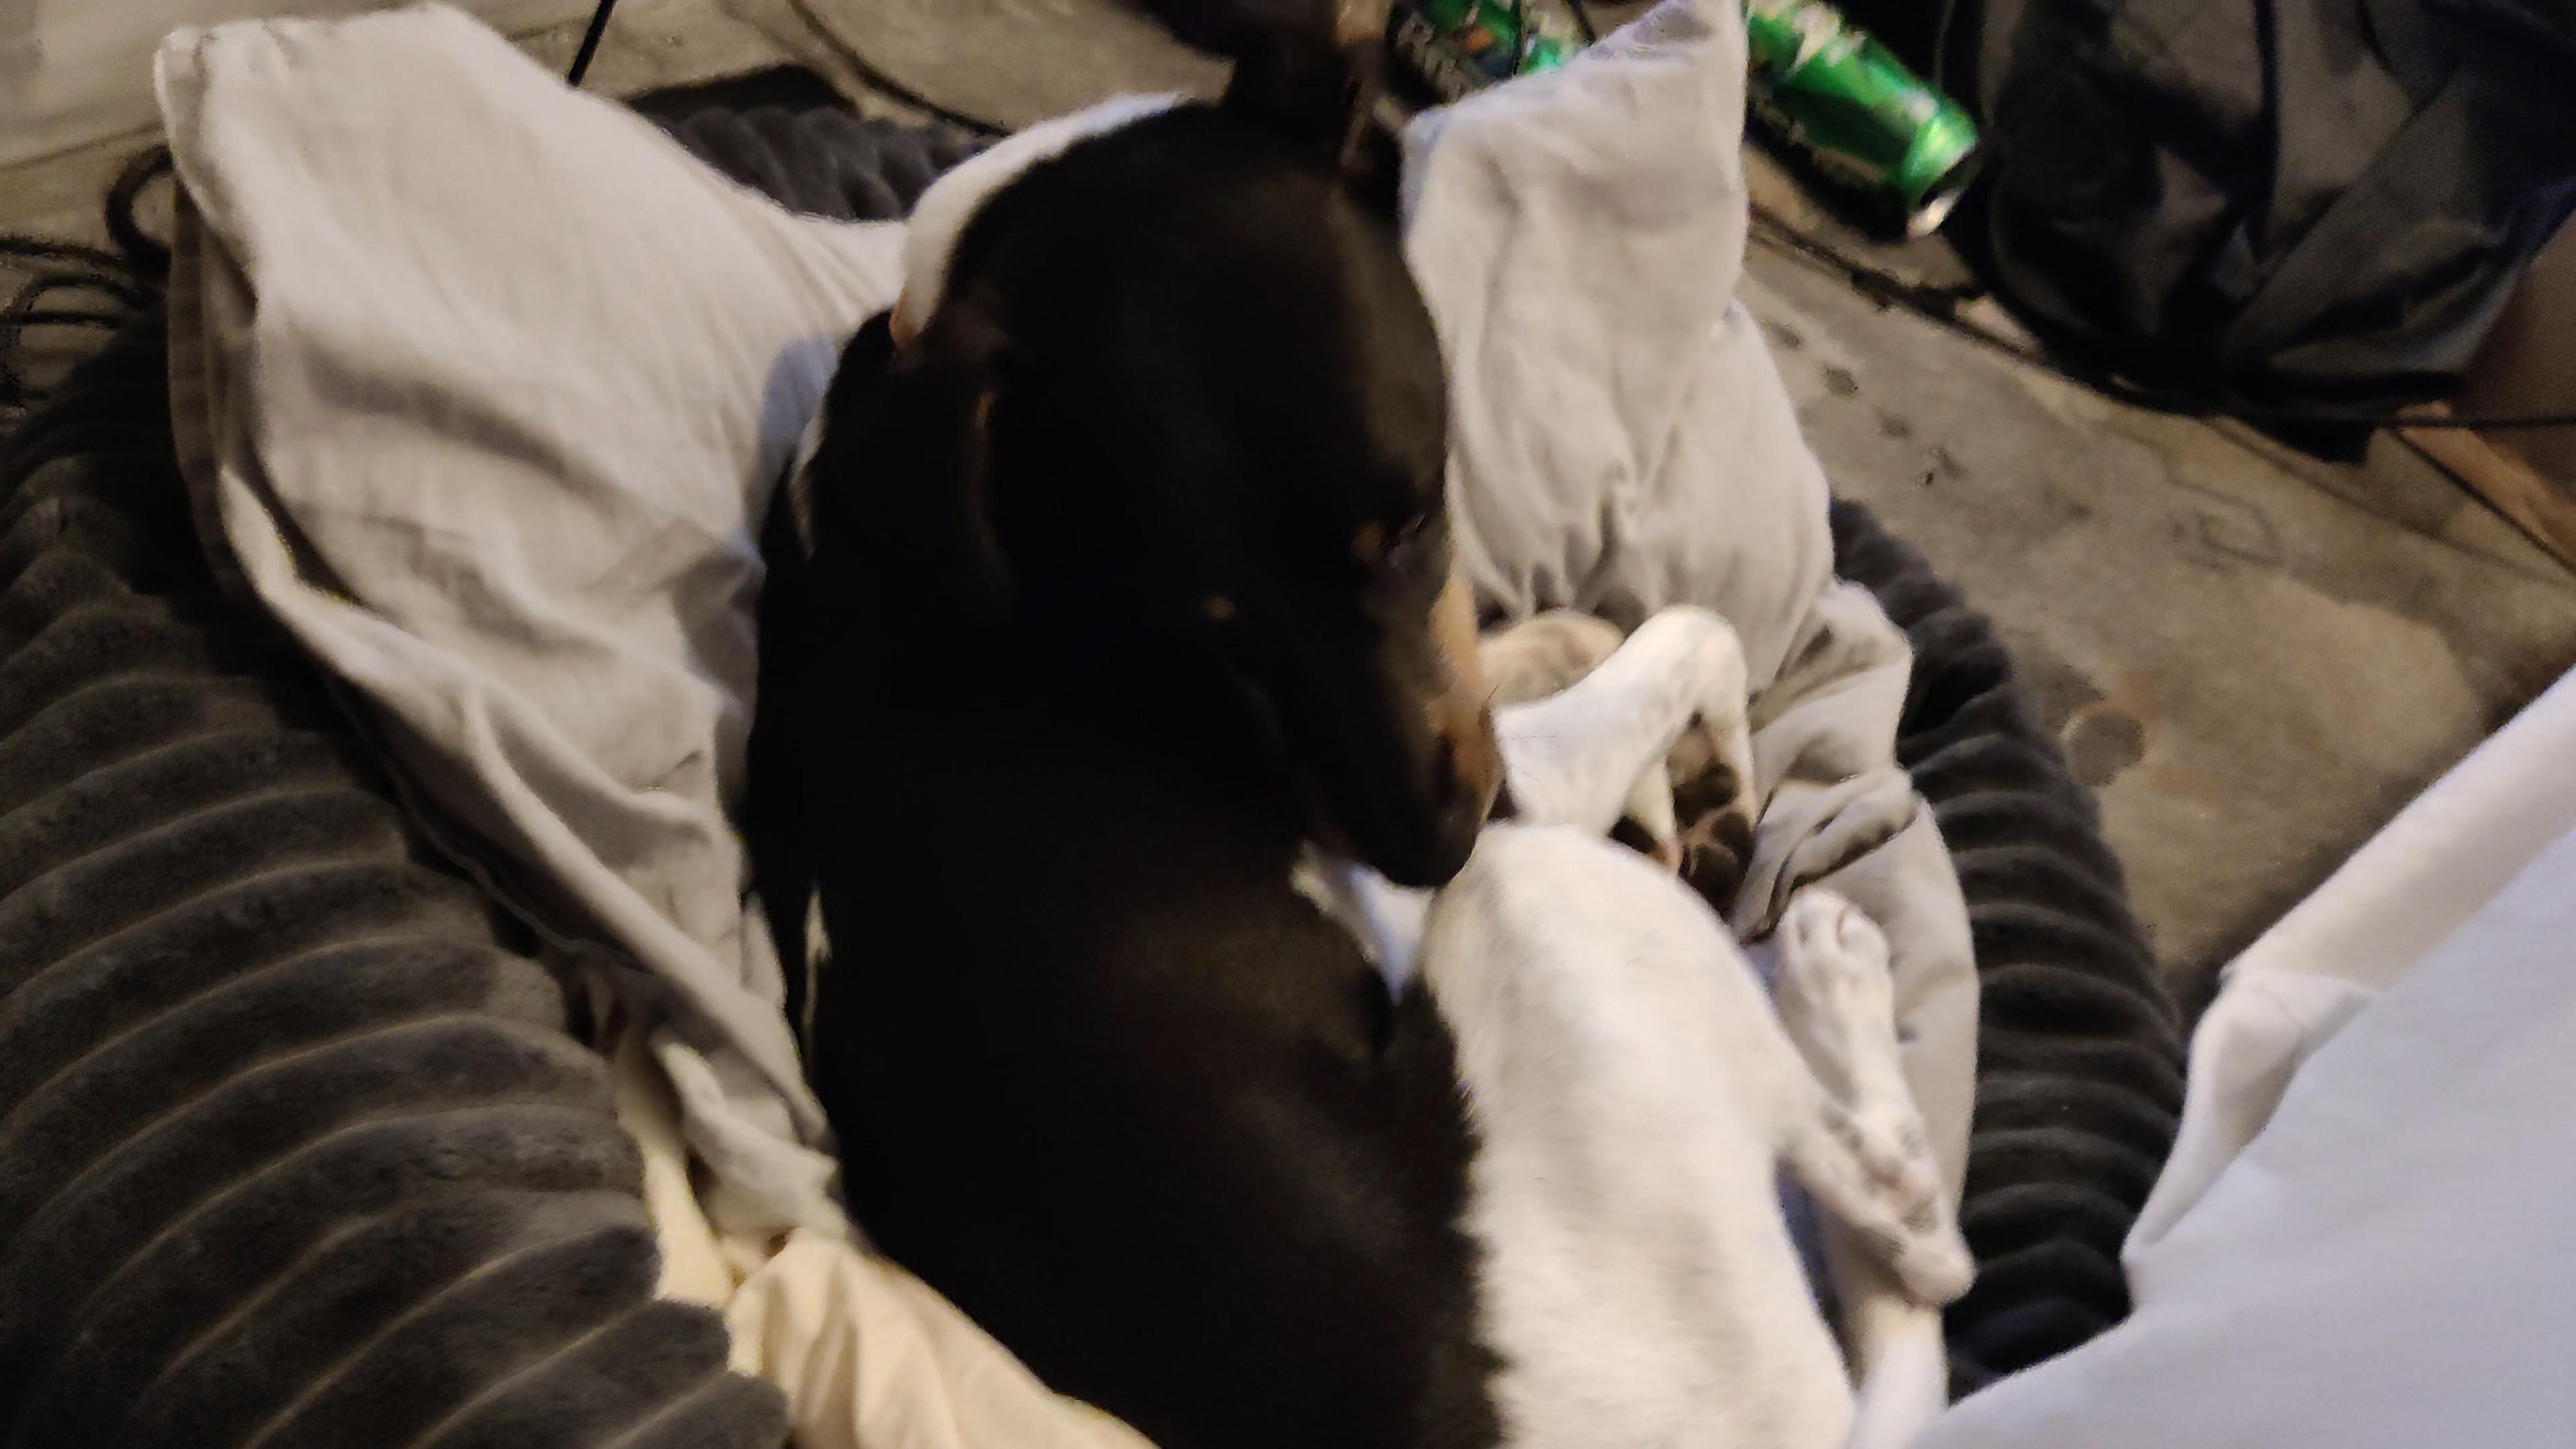Dog: (718, 21, 1996, 1449)
